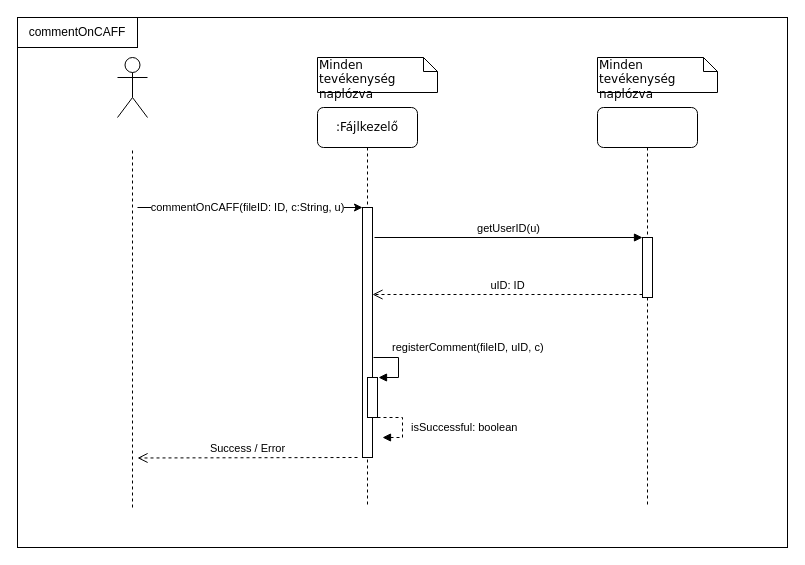
Image size: 805x565. Some labels were removed from this diagram. The shapes that lost their labels are listed below. From the top down, each one's centre as x and y in pixels, then its label:
point (132, 87): u:User
point (647, 307): :Felhasználói adatkezelő
